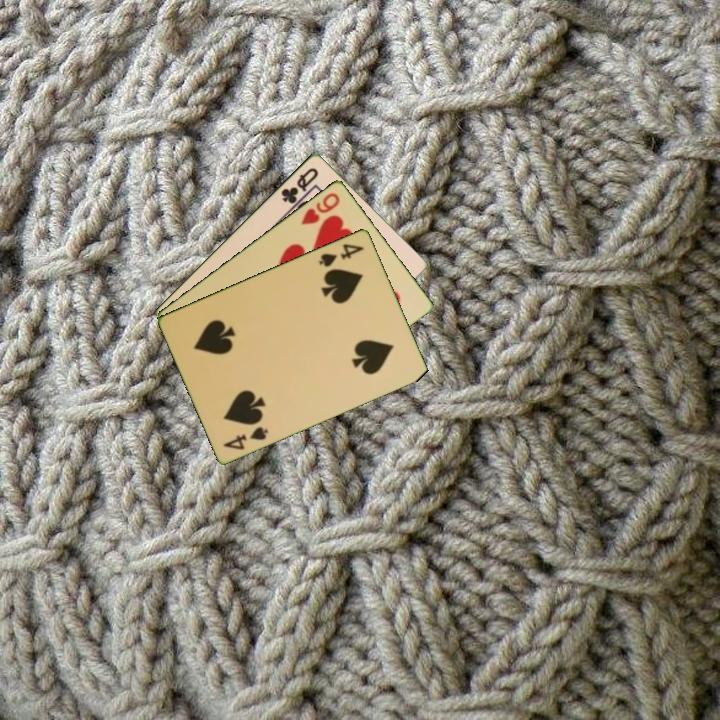4s: (315, 240, 367, 270), (219, 422, 271, 452)
9h: (298, 189, 343, 227)
Qc: (278, 164, 321, 206)
